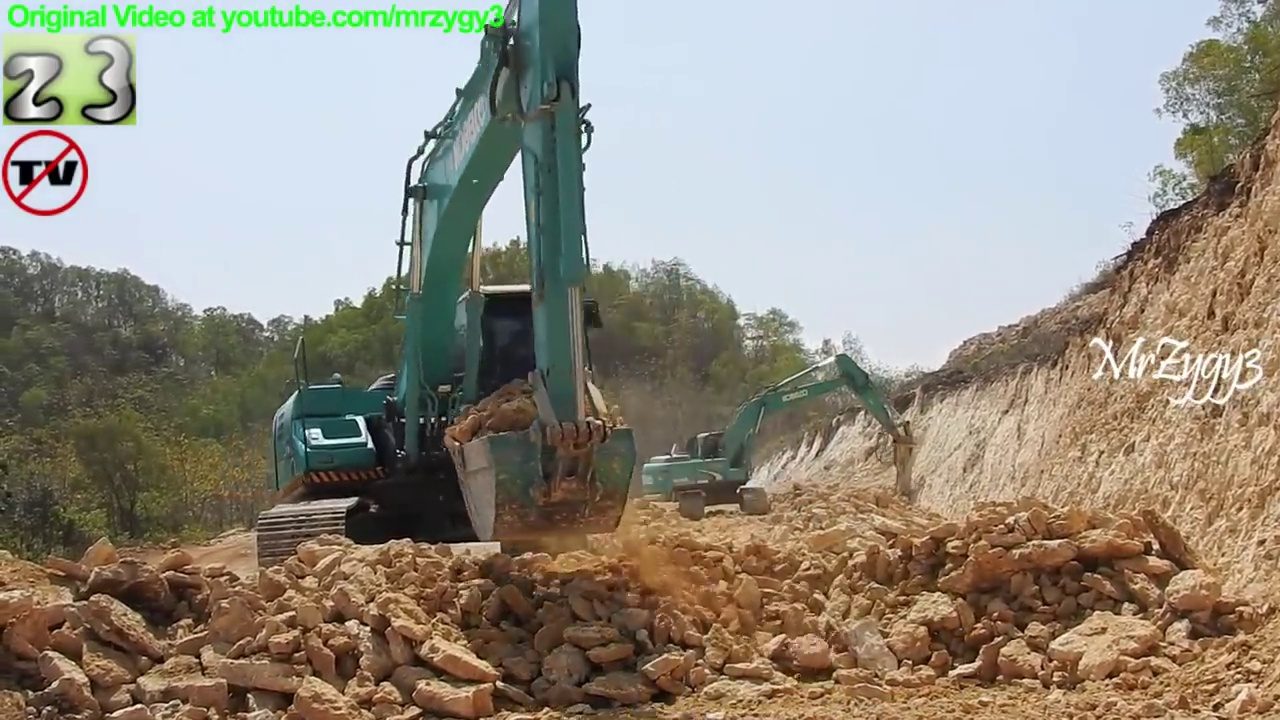excavator: (246, 1, 646, 599)
excavator breaker: (640, 350, 924, 521)
